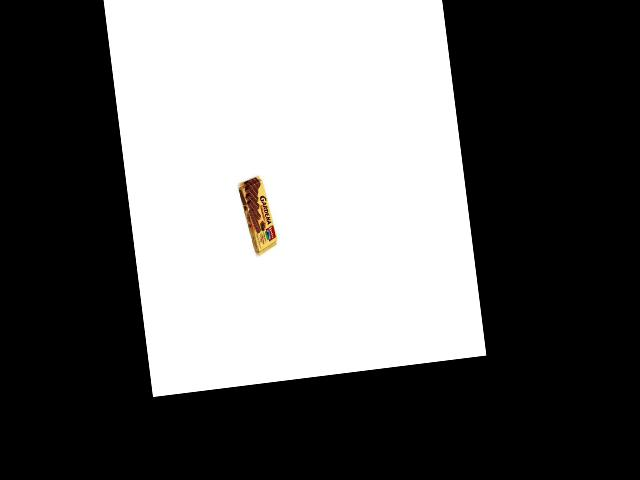chocolate: (239, 170, 280, 259)
